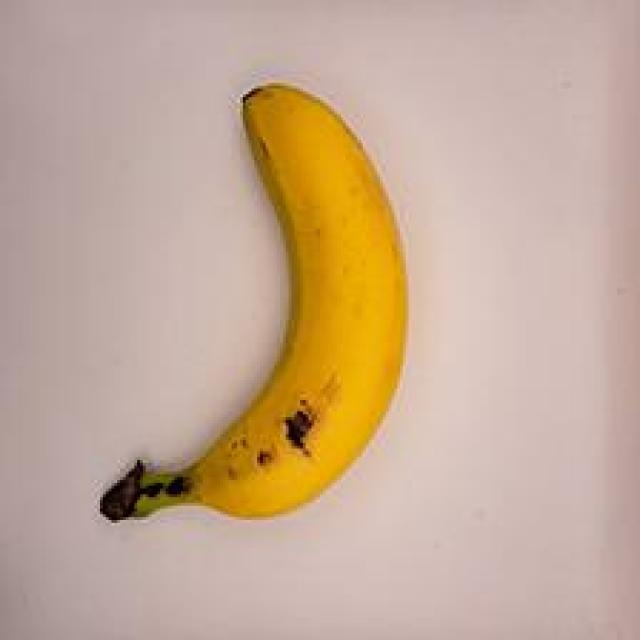ripe: (75, 47, 442, 555)
